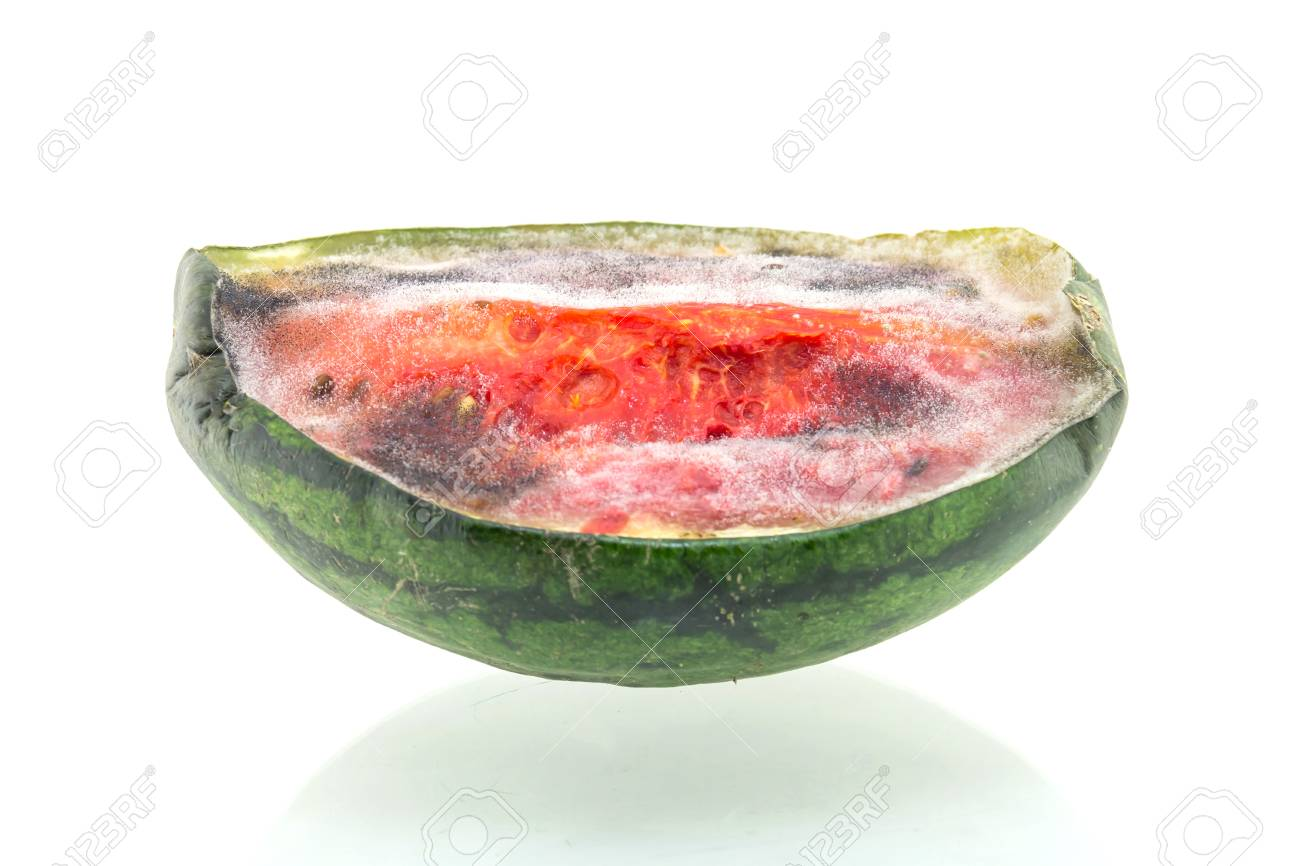damaged_watermelon: (143, 214, 1121, 709)
